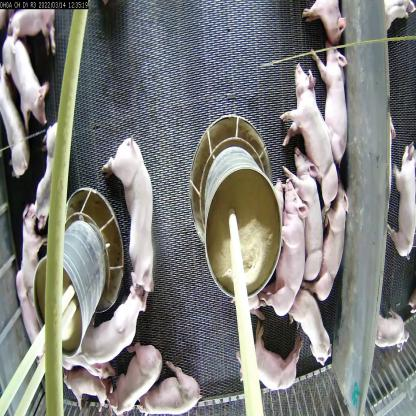Pig: (100, 134, 165, 290), (285, 62, 342, 192), (290, 143, 328, 274), (81, 284, 146, 360), (0, 63, 38, 181), (317, 62, 357, 174), (246, 328, 308, 400), (316, 187, 349, 305), (294, 284, 336, 371), (279, 184, 307, 310), (35, 124, 70, 224), (1, 28, 36, 127), (114, 343, 162, 413), (143, 363, 199, 415), (51, 351, 106, 399), (10, 0, 56, 53), (17, 203, 40, 289), (8, 261, 32, 343)
